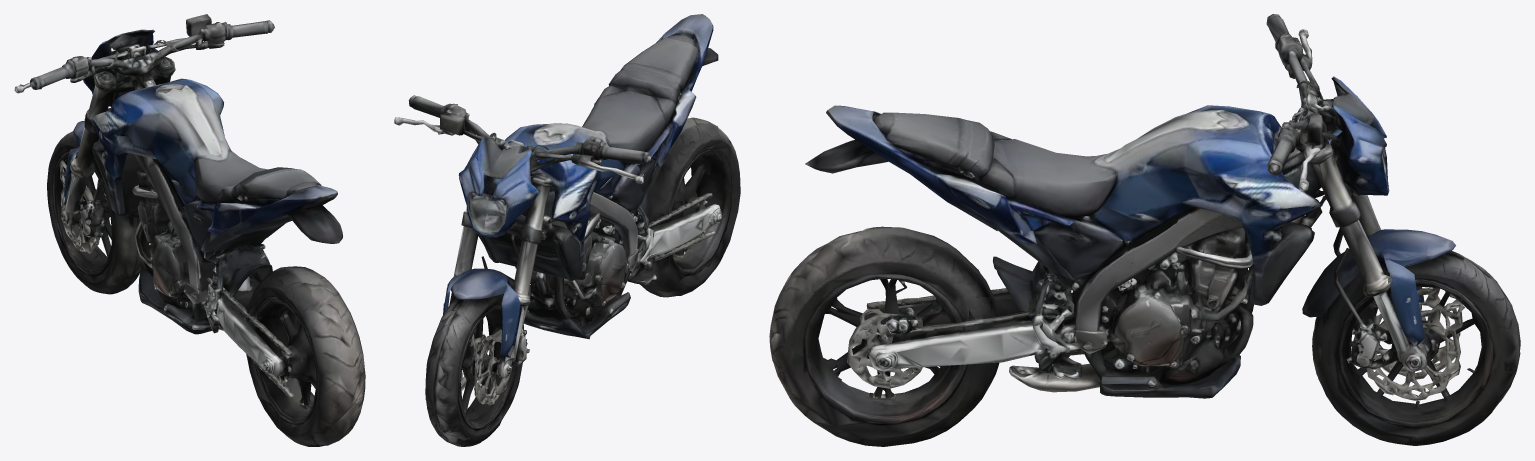
The model's file is roadster.glb.
3 renders of one model, left to right at view 1: azimuth 30°, elevation 25°; view 2: azimuth 150°, elevation 25°; view 3: azimuth 270°, elevation 25°, orthographic. The views are drawn at different scales.
Parts seen in each view (by area): view 1: body, wheel_r, wheel_f; view 2: body, wheel_f, wheel_r; view 3: body, wheel_f, wheel_r.
Part boxes in pixels (box(x1,y1,x2,y2)): body: box(14, 14, 365, 446); wheel_r: box(245, 287, 363, 446); wheel_f: box(47, 131, 142, 294); body: box(394, 14, 738, 378); wheel_f: box(425, 293, 527, 446); wheel_r: box(630, 139, 740, 297); body: box(769, 14, 1469, 443); wheel_f: box(1312, 256, 1520, 445); wheel_r: box(781, 273, 992, 446).
Bounding box in the file's own units: 1.03 × 1.12 × 2.1.
Materials: 1 (1 with a texture image).
